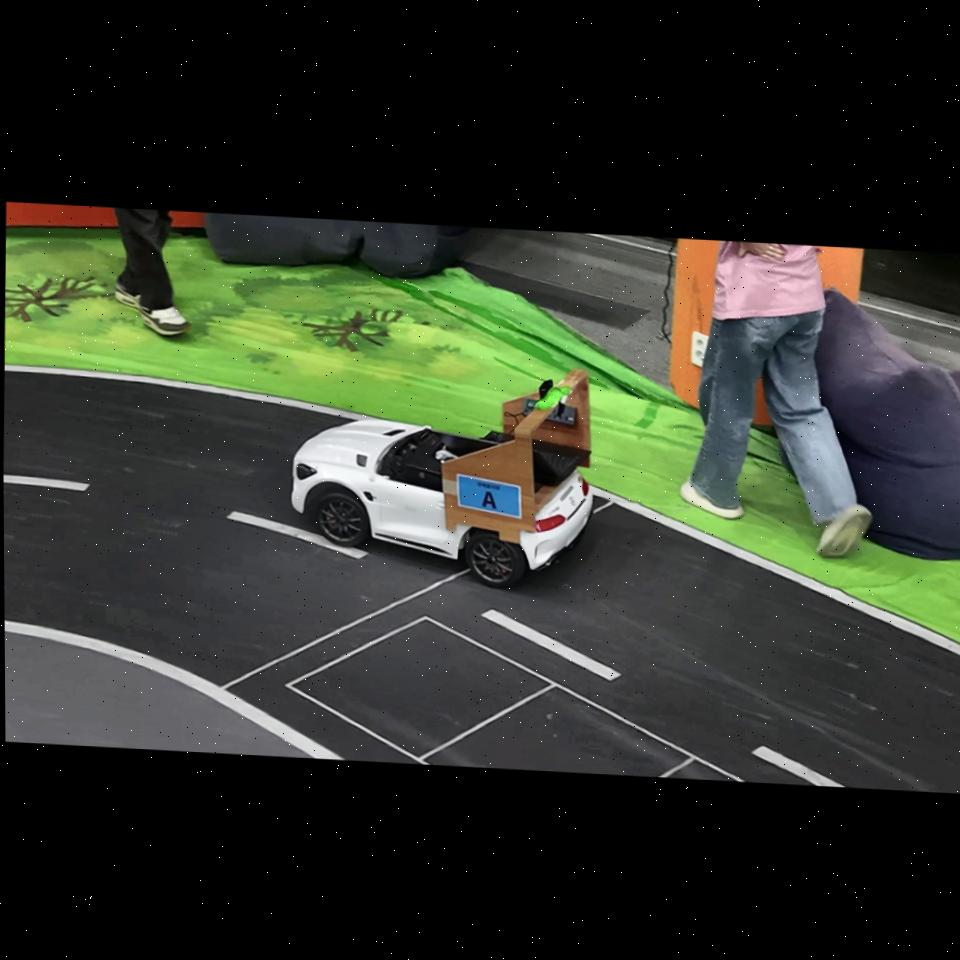broken_line: (480, 609, 622, 681), (226, 511, 369, 559), (751, 745, 846, 787), (4, 475, 90, 491)
